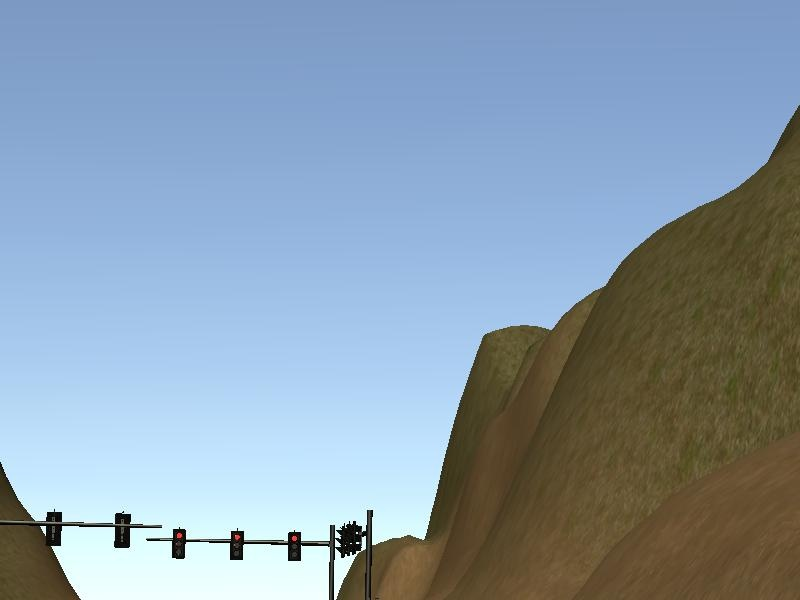red: (230, 530, 244, 563), (172, 527, 184, 562), (288, 530, 301, 559)
